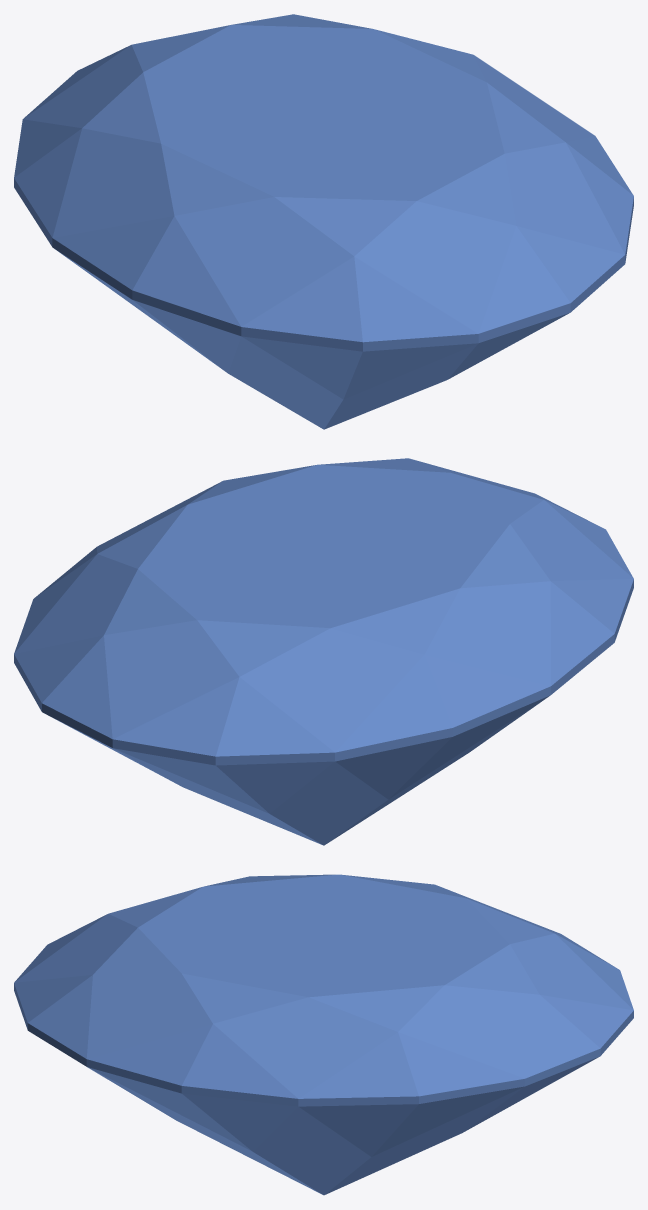
Rendered from stone-sapphire.glb.
3 views of the same model, one above another, from view 1: azimuth 30°, elevation 25°; view 2: azimuth 150°, elevation 25°; view 3: azimuth 270°, elevation 25° (orthographic). The views are drawn at different scales.
Visible parts, largest first — view 1: Gemstone Sapphire; view 2: Gemstone Sapphire; view 3: Gemstone Sapphire.
Part boxes in pixels (left/top/right/bottom): Gemstone Sapphire: left=14, top=14, right=633, bottom=429; Gemstone Sapphire: left=14, top=458, right=633, bottom=845; Gemstone Sapphire: left=14, top=874, right=633, bottom=1195.
Bounding box in the file's own units: 1.99 × 1.18 × 2.55.
